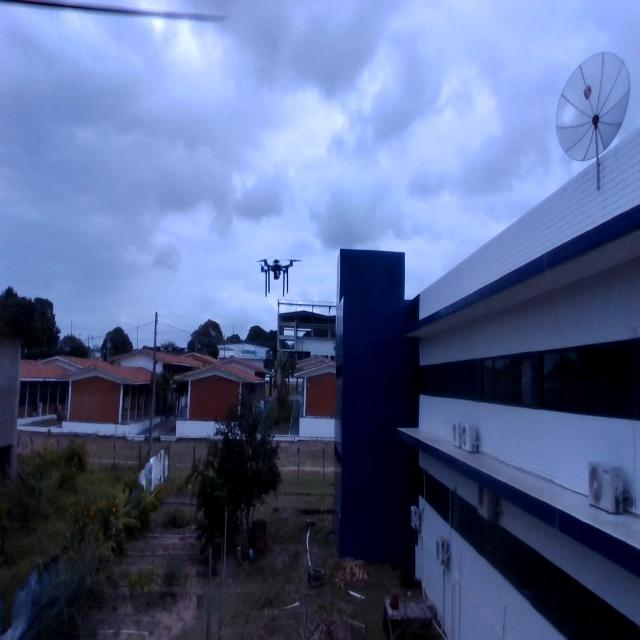-uav-: (248, 250, 304, 308)
